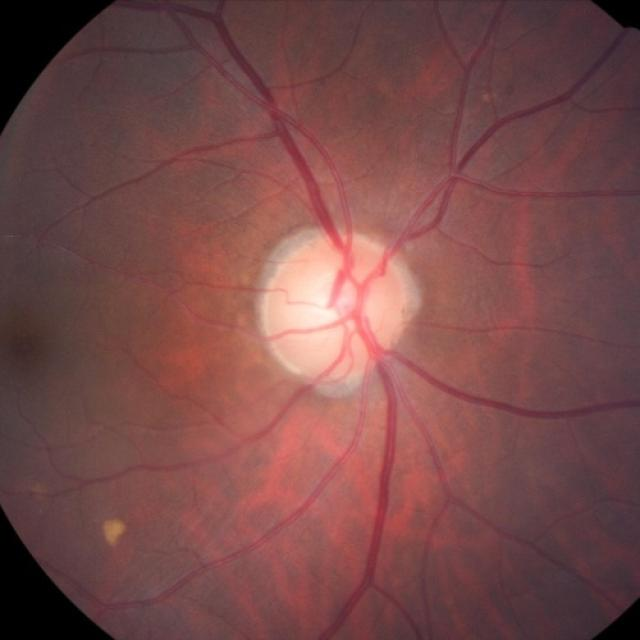OC: (302, 270, 365, 342)
OD: (262, 231, 410, 379)
